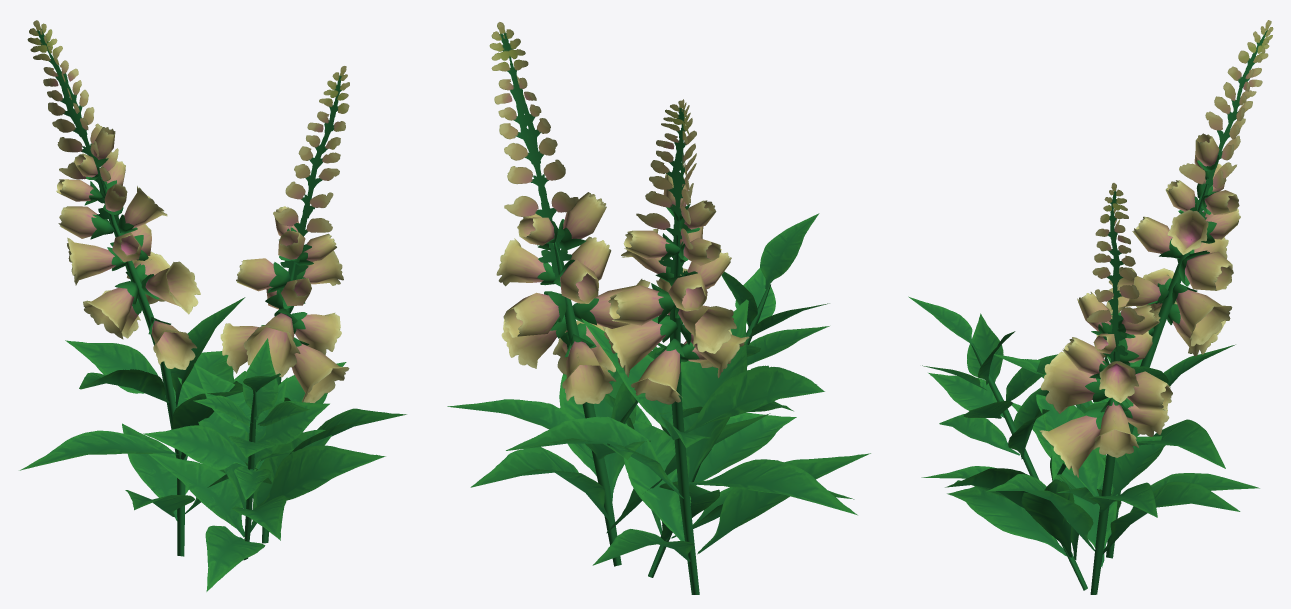
Rendered from MSH_FWOF_Flower_Large_C_01.fbx.
The picture shows the model from 3 angles, left to right: view 1: azimuth 30°, elevation 25°; view 2: azimuth 150°, elevation 25°; view 3: azimuth 270°, elevation 25°; orthographic projection. The views are drawn at different scales.
Visible parts, largest first — view 1: MSH_FWOF_Flower_Large_C_01; view 2: MSH_FWOF_Flower_Large_C_01; view 3: MSH_FWOF_Flower_Large_C_01.
Boxes of the visible parts, left/top/right/bottom form: MSH_FWOF_Flower_Large_C_01: left=19, top=20, right=406, bottom=591; MSH_FWOF_Flower_Large_C_01: left=447, top=22, right=870, bottom=594; MSH_FWOF_Flower_Large_C_01: left=908, top=20, right=1273, bottom=594.
Size of the model in its own units: 0.7571 by 1.06 by 0.6876.
